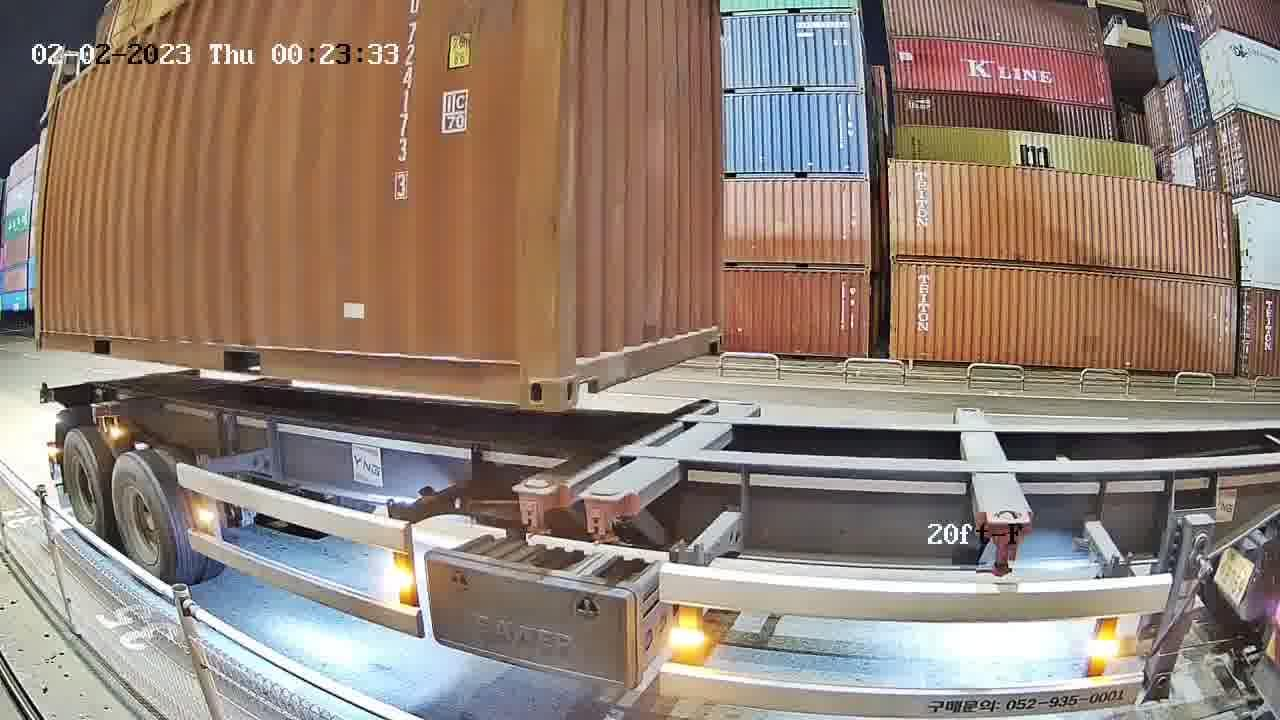Chassis: (512, 401, 719, 492), (581, 403, 760, 502)
Cone: (519, 479, 561, 532), (583, 490, 629, 537)
Hole_L: (556, 323, 611, 413)
Hole_R: (488, 339, 557, 415), (701, 310, 724, 353)
Tire: (112, 455, 177, 588), (63, 432, 105, 545)
